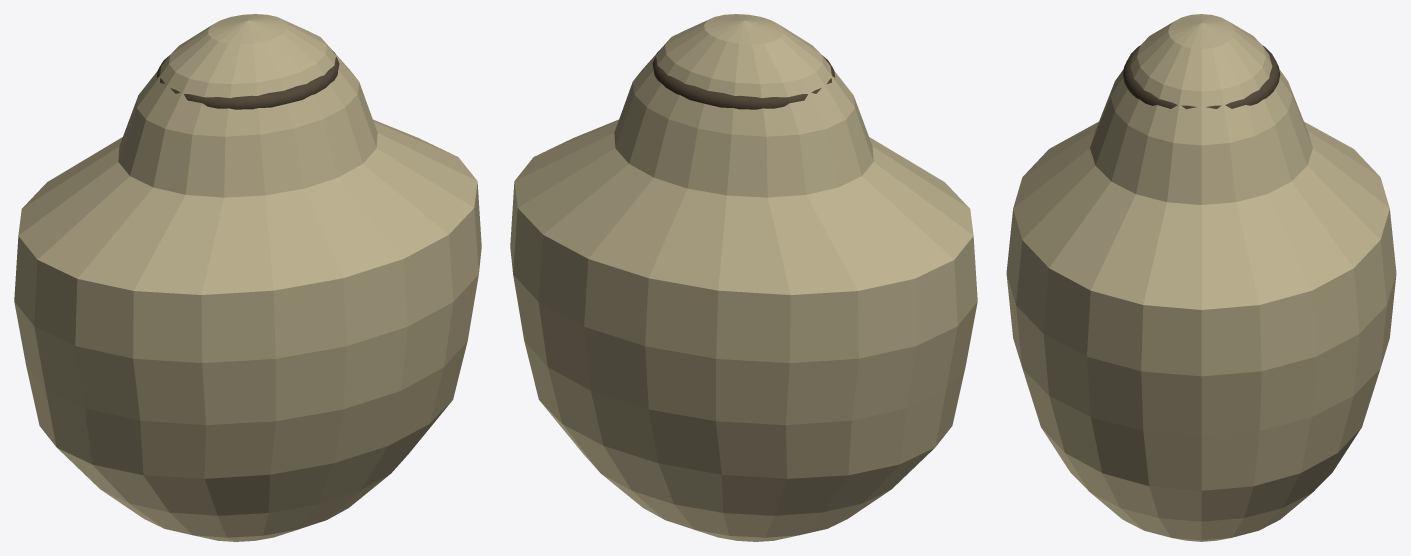
The model's file is sack.glb.
The picture shows the model from 3 angles, left to right: view 1: azimuth 30°, elevation 25°; view 2: azimuth 150°, elevation 25°; view 3: azimuth 270°, elevation 25°; orthographic projection.
Parts seen in each view (by area): view 1: Grain Sack; view 2: Grain Sack; view 3: Grain Sack.
Boxes of the visible parts, x1,y1,x2,y2 form: Grain Sack: (14, 14, 481, 541); Grain Sack: (510, 14, 977, 541); Grain Sack: (1006, 14, 1396, 541).
Bounding box in the file's own units: 0.6 × 0.68 × 0.48.
2 materials, 1 textured.
